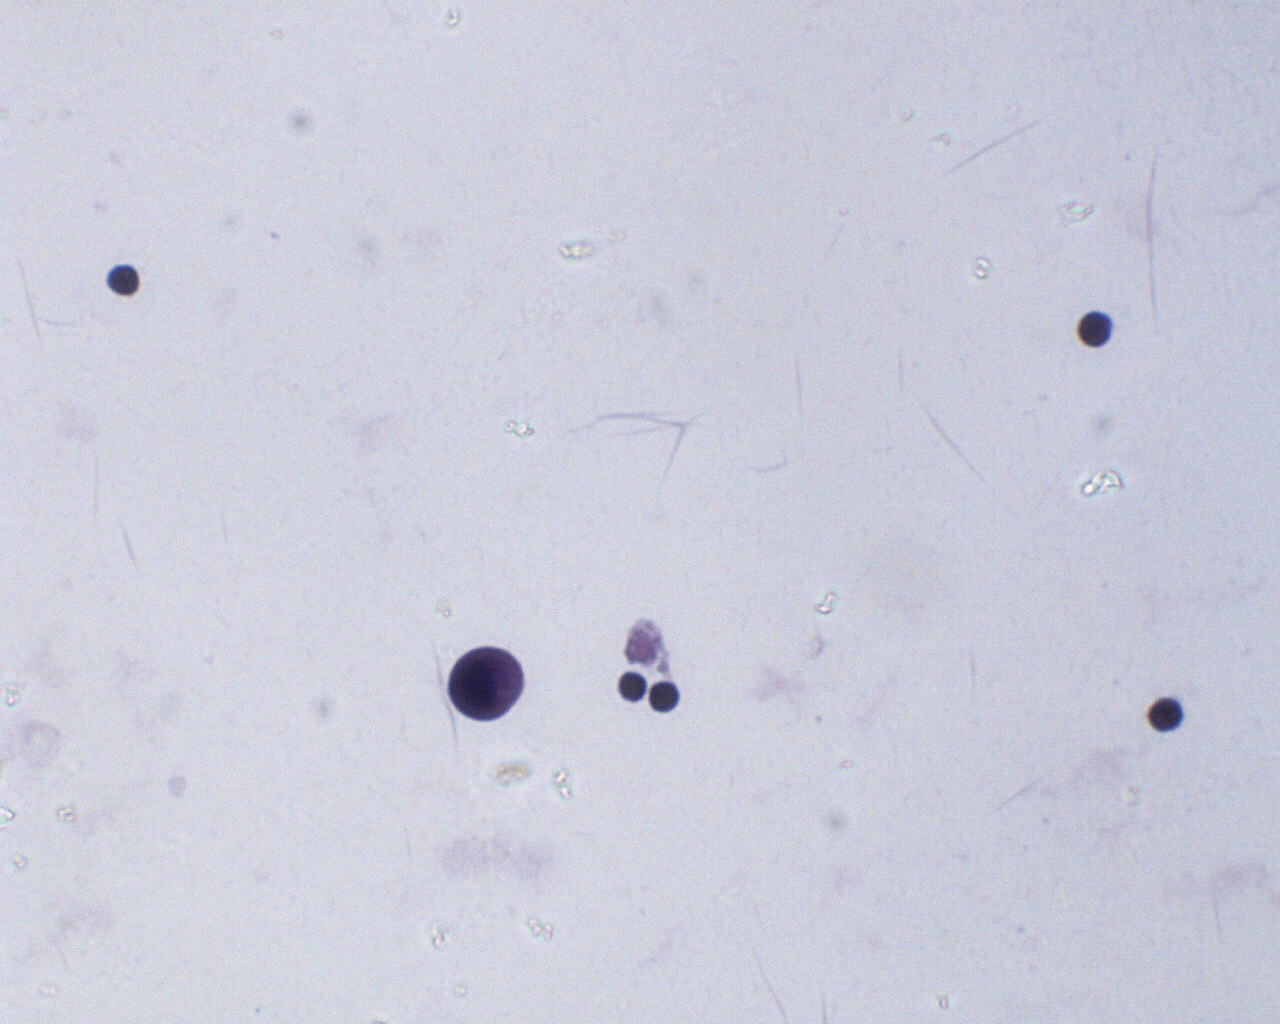ab: (442, 642, 529, 726)
lymph: (1073, 306, 1119, 353), (1146, 691, 1188, 740), (104, 254, 142, 301), (646, 677, 686, 717), (615, 665, 649, 706)
